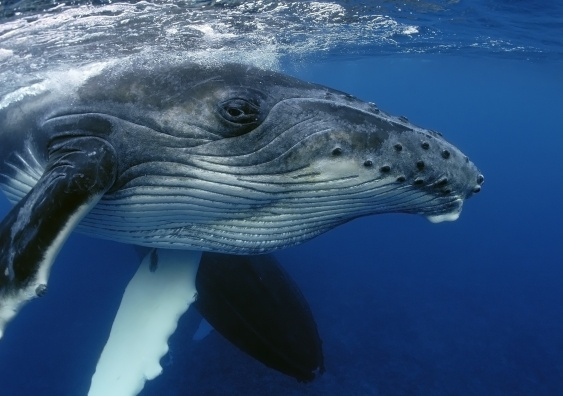humpback: (1, 62, 473, 251)
